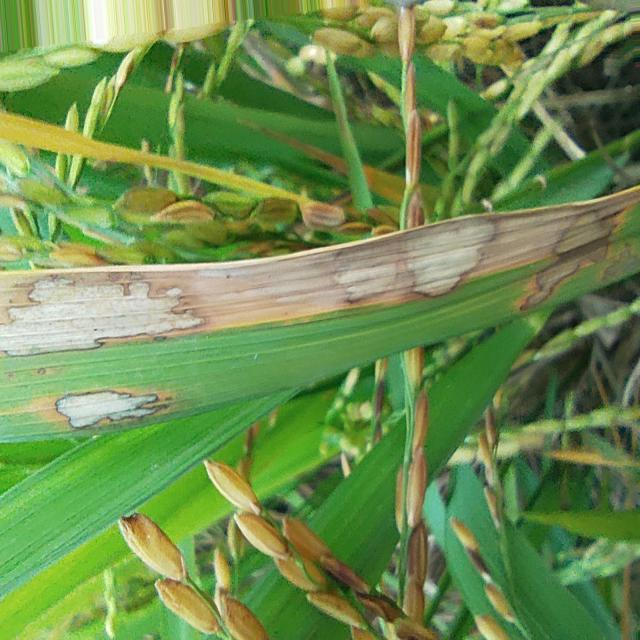Leaf_Blast: (0, 111, 344, 228)
Rice False Smut: (0, 278, 201, 357), (519, 202, 618, 312), (402, 217, 496, 297), (332, 240, 406, 302), (56, 390, 160, 428)
